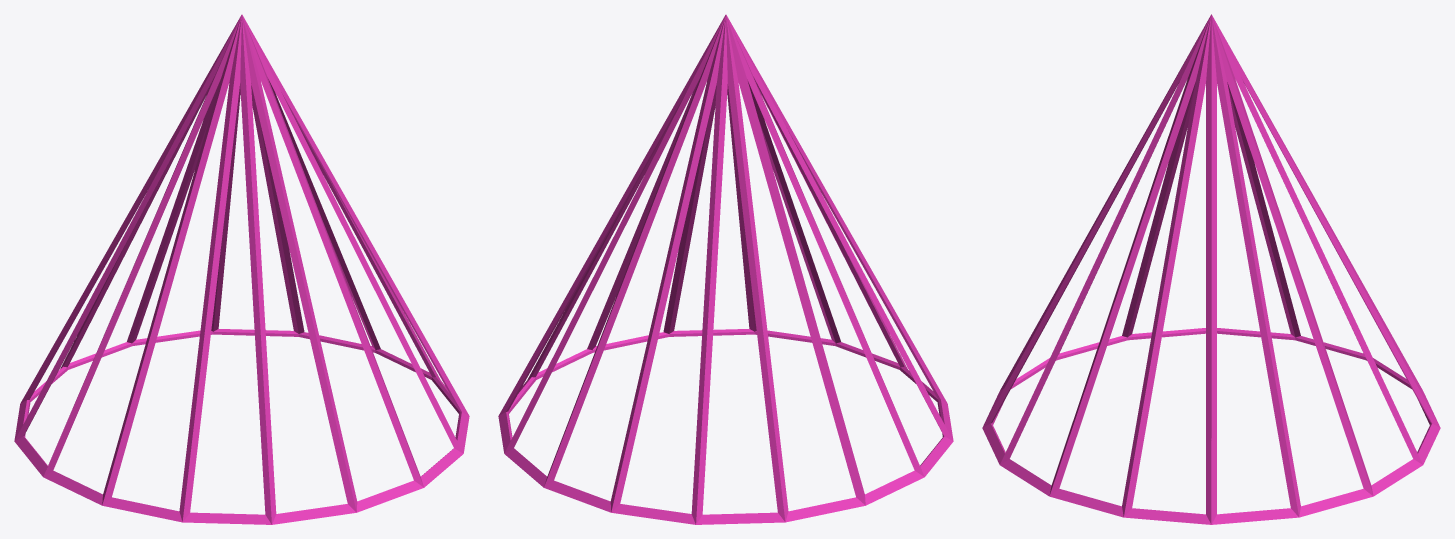
Rendered from RusukKerucut.fbx.
3 views of the same model, side by side, from view 1: azimuth 30°, elevation 25°; view 2: azimuth 150°, elevation 25°; view 3: azimuth 270°, elevation 25° (orthographic).
Visible parts, largest first — view 1: Cone; view 2: Cone; view 3: Cone.
Boxes of the visible parts, box(x1,y1,x2,y2) form: Cone: box(14, 14, 469, 524); Cone: box(498, 14, 953, 524); Cone: box(982, 14, 1440, 524).
Bounding box in the file's own units: 204 × 204 × 204.
